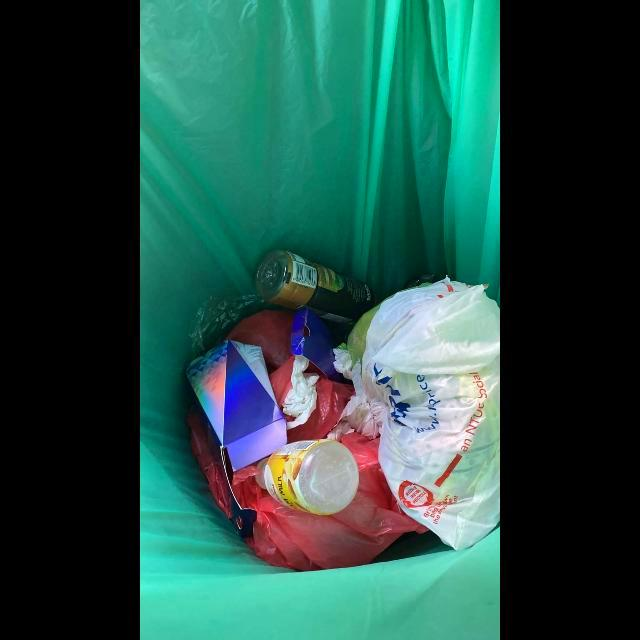cardboard: (183, 340, 288, 538)
paper: (283, 354, 319, 430)
plastic_bag: (337, 274, 500, 551)
plastic_bottle: (254, 249, 374, 323), (255, 439, 359, 515)
